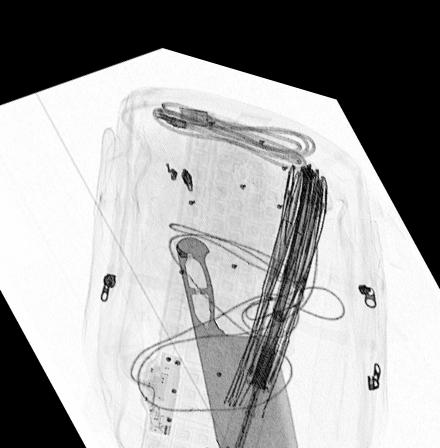Knife: (173, 225, 302, 448)
